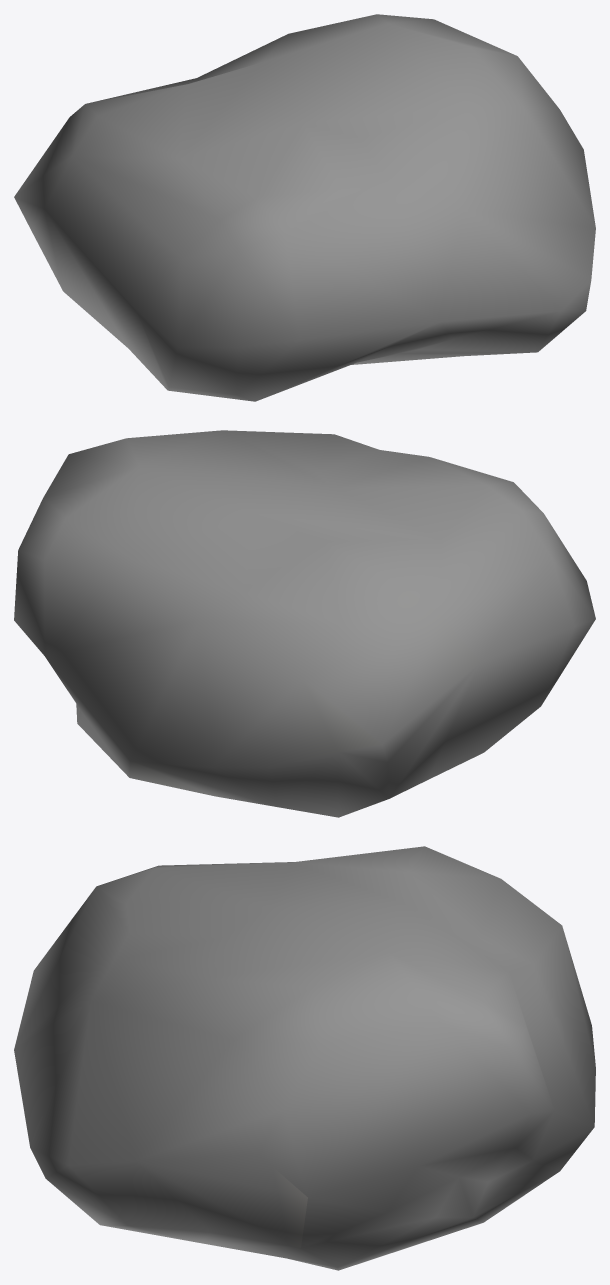
The model's file is Stone4_4.fbx.
3 renders of one model, top to bottom at view 1: azimuth 30°, elevation 25°; view 2: azimuth 150°, elevation 25°; view 3: azimuth 270°, elevation 25°, orthographic. The views are drawn at different scales.
Visible parts, largest first — view 1: Stone4; view 2: Stone4; view 3: Stone4.
Part boxes in pixels (left/top/right/bottom): Stone4: left=14, top=14, right=595, bottom=401; Stone4: left=14, top=430, right=595, bottom=817; Stone4: left=14, top=846, right=595, bottom=1270.
Size of the model in its own units: 220 by 126 by 210.
